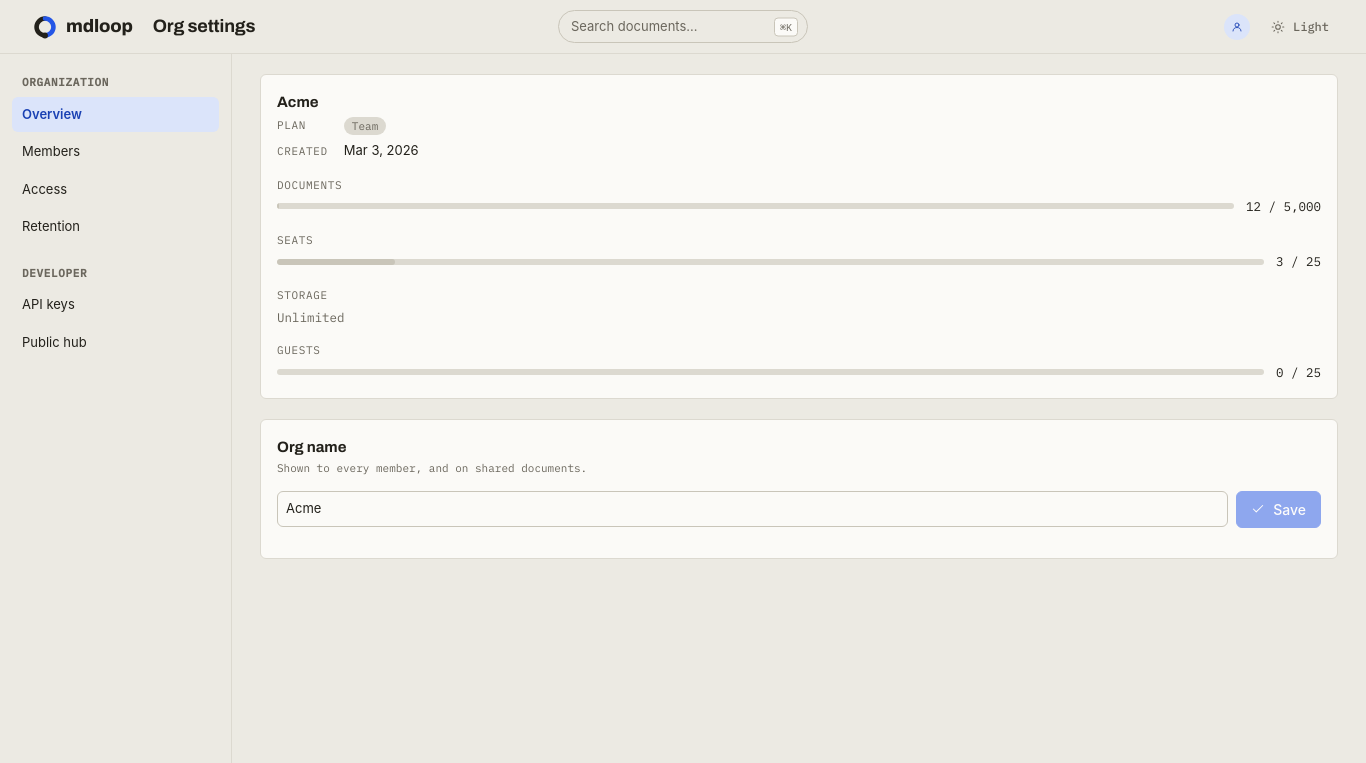
Scenario: OrgSettings › keeps this screen's own wording for a forbidden action
Click the button "Access" at (116, 189), box [12, 172, 219, 207]
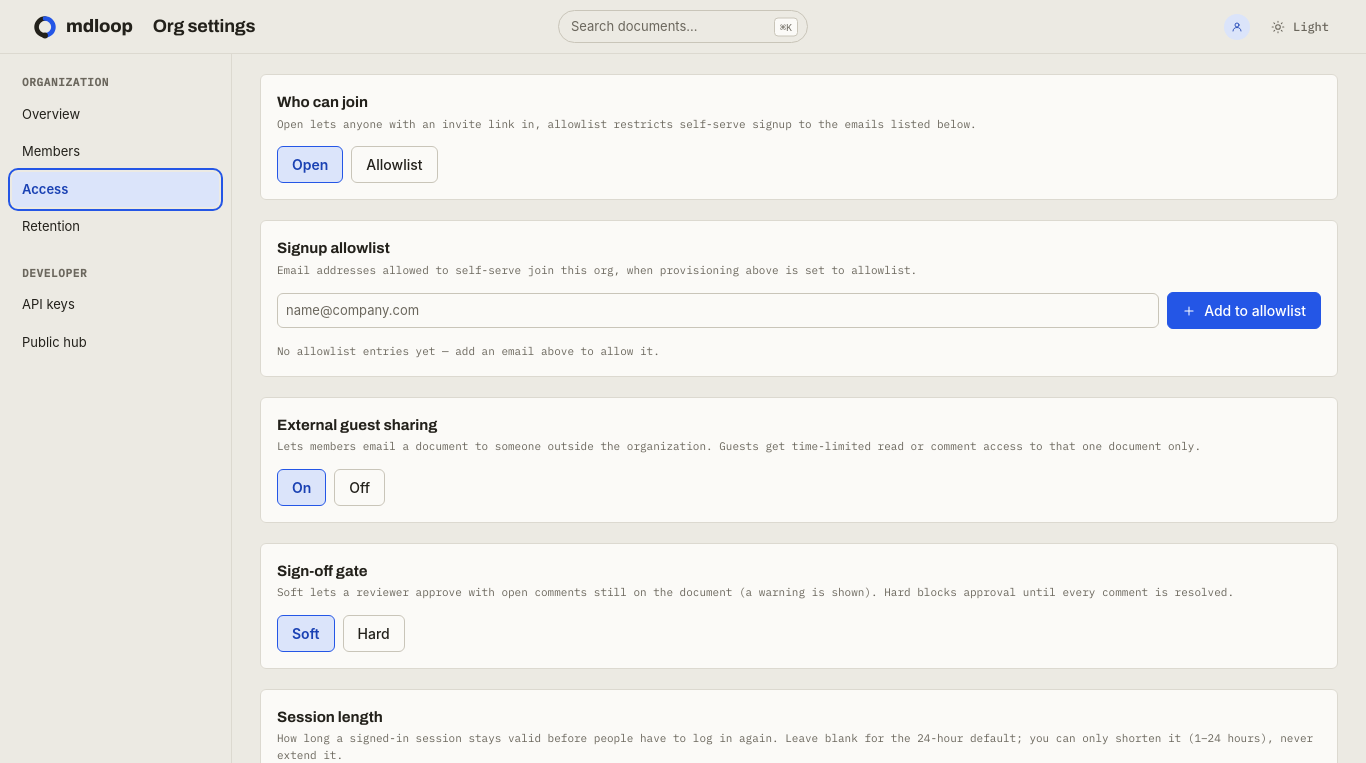
Click the button "Allowlist" at (394, 164), box [351, 146, 438, 183]
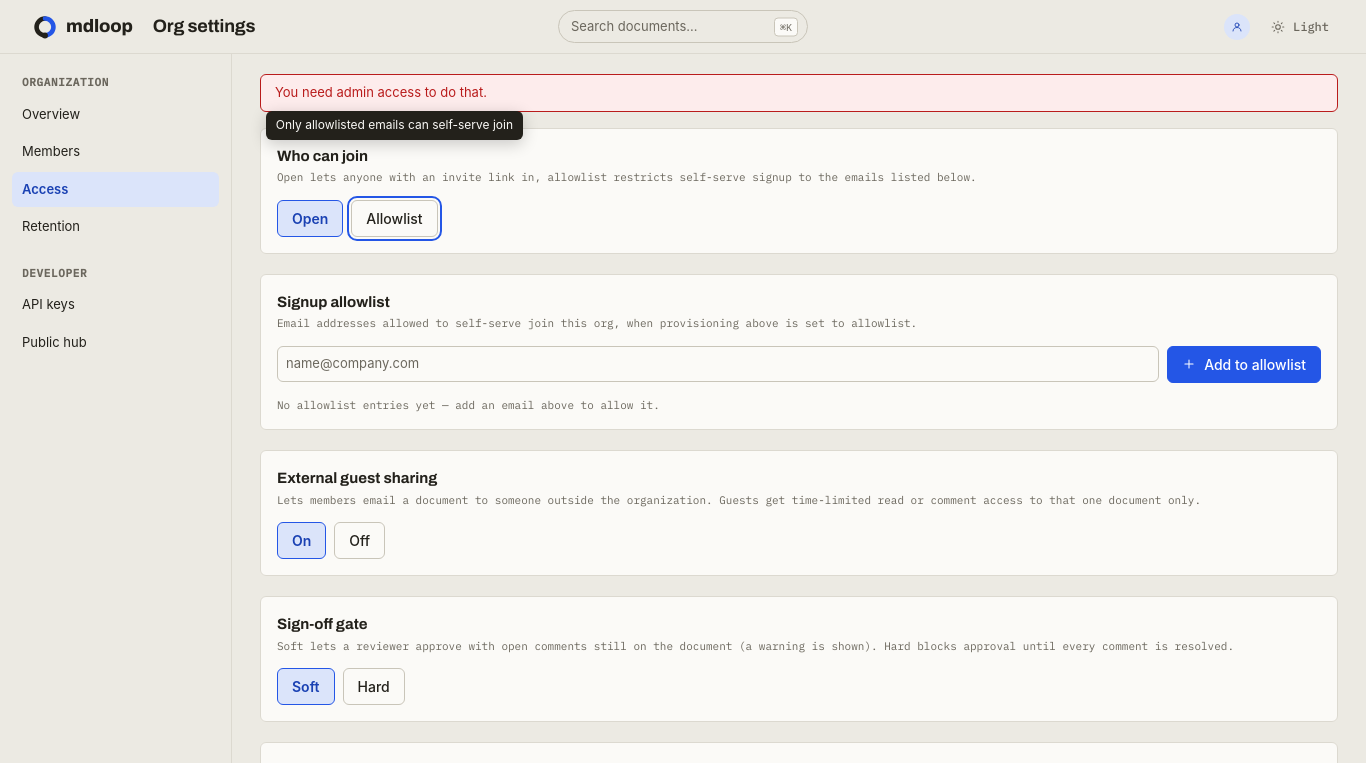
Check: the text "You need admin access to do that." is shown, box [260, 74, 1338, 112]
